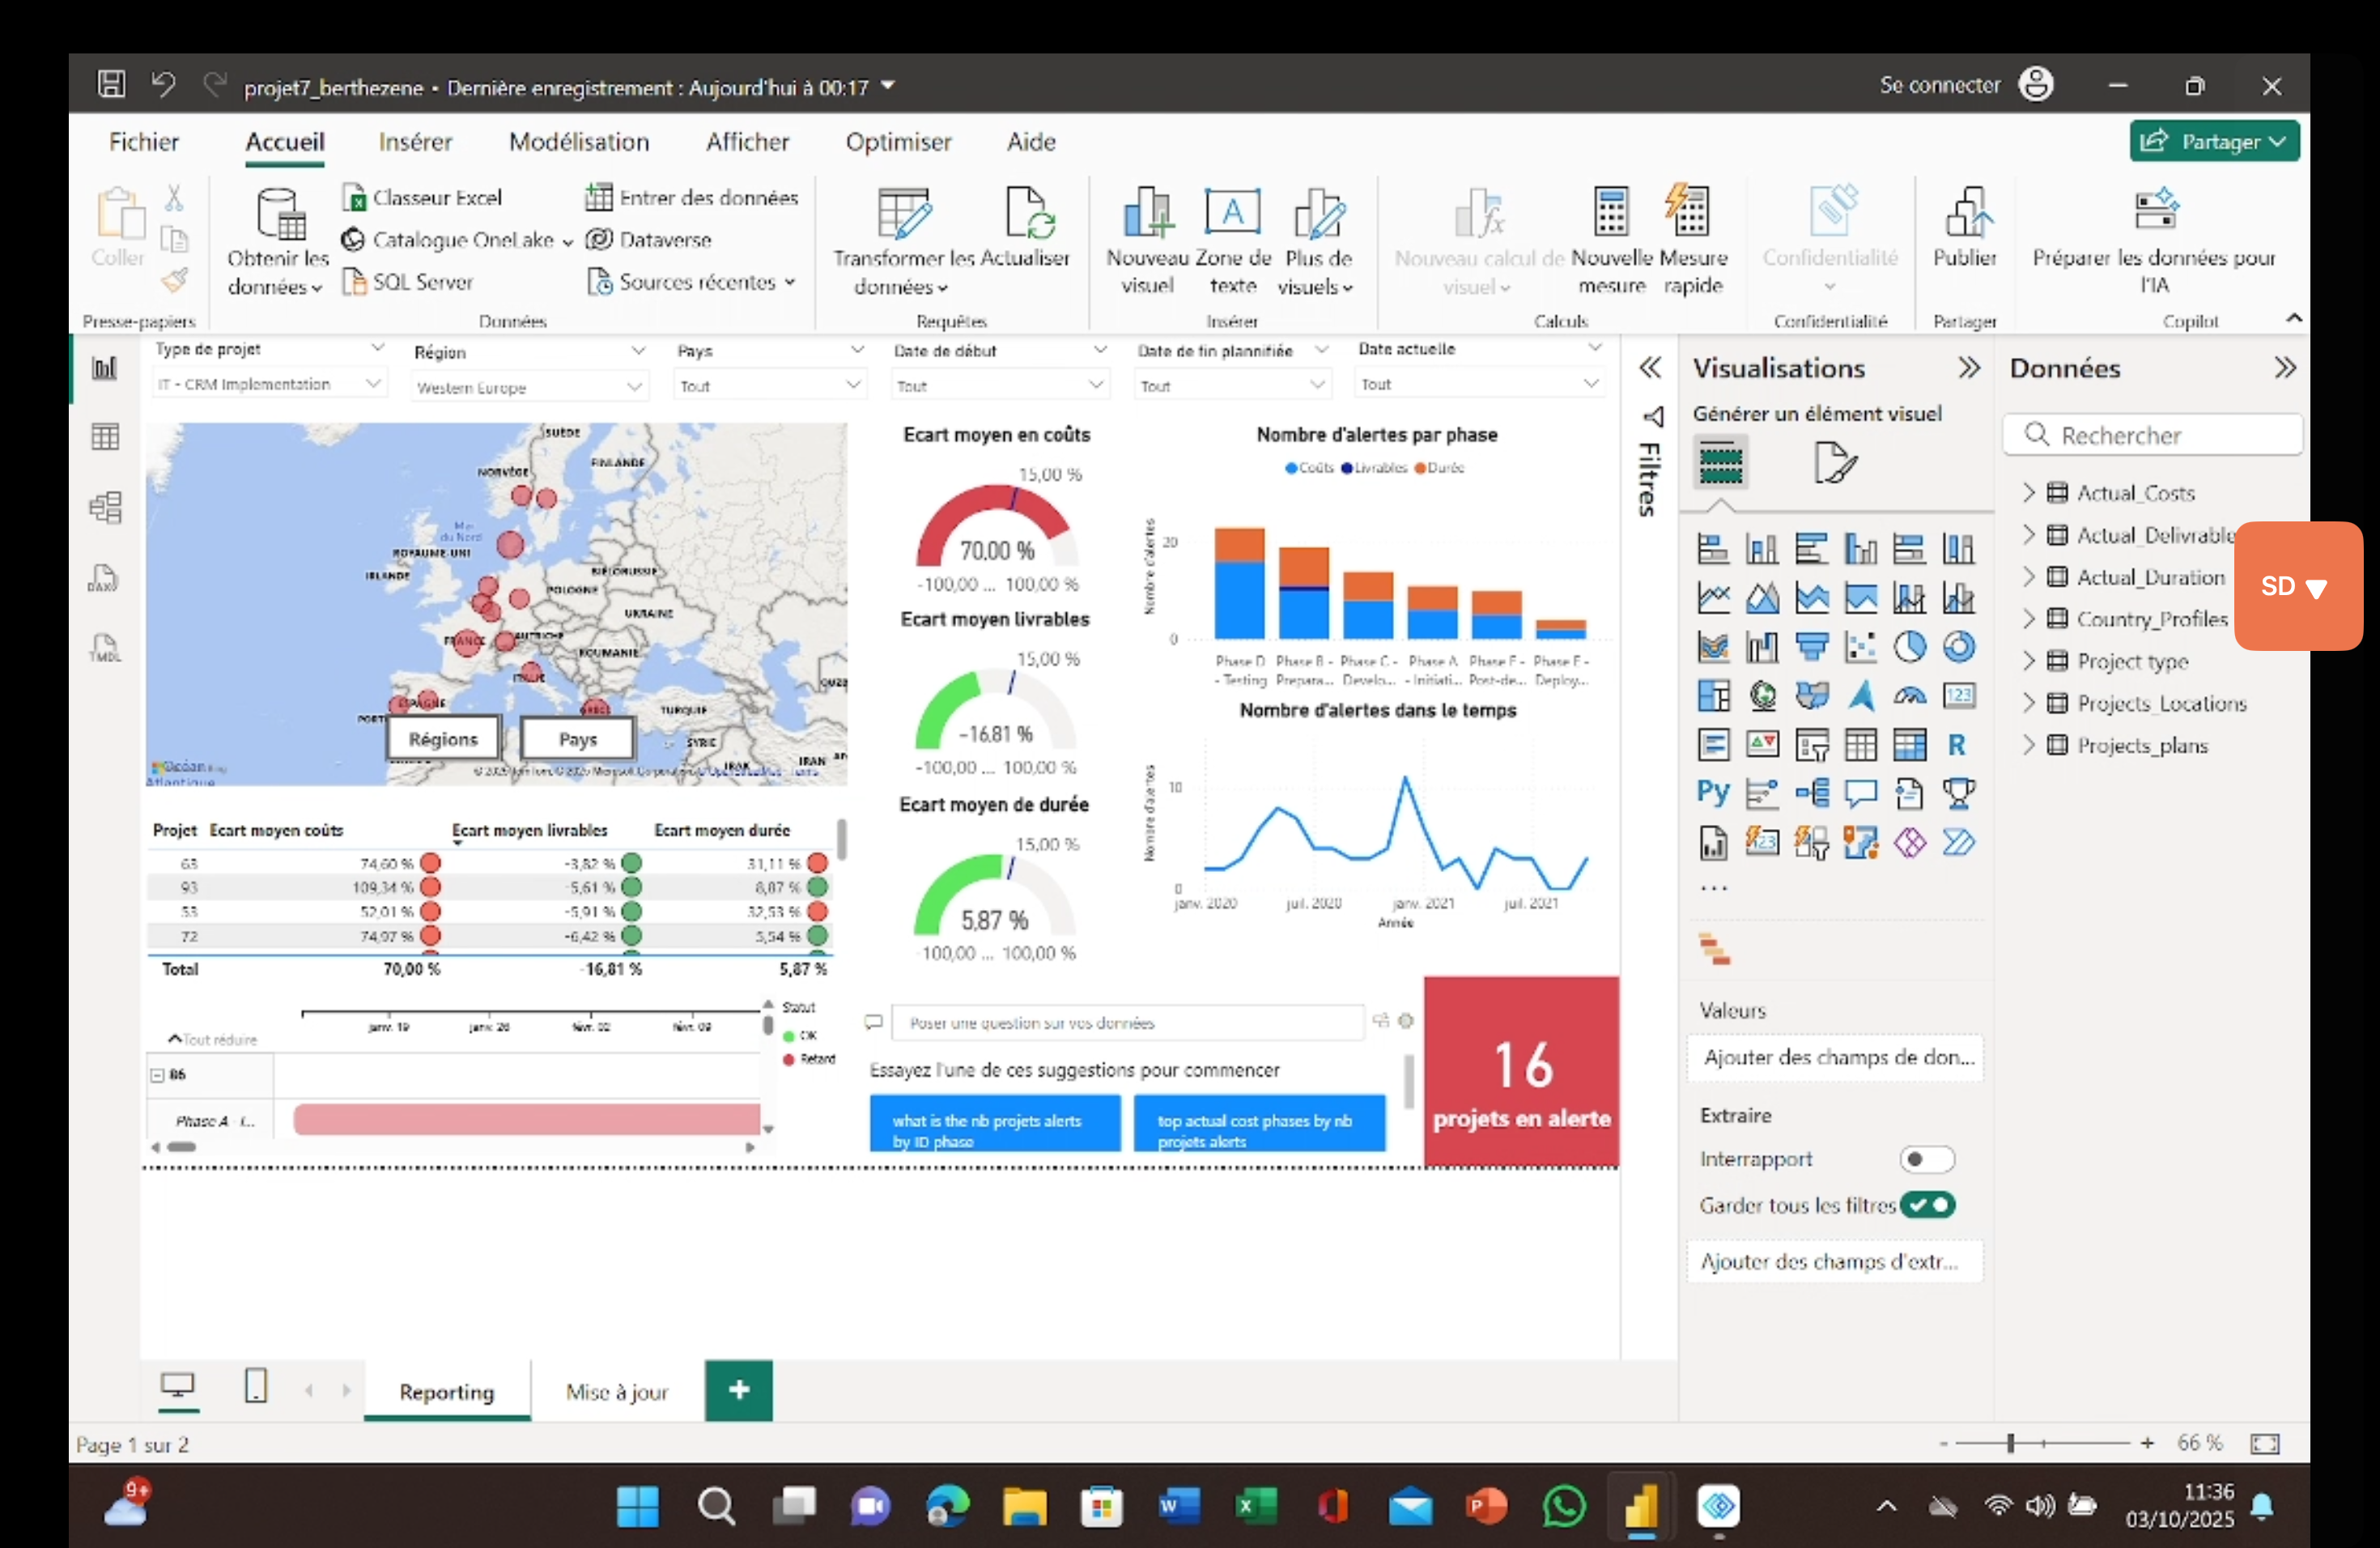

Layout of this report page (visuals, bound fields, positions):
{"tool":"powerbi","page":{"name":"Reporting","canvas":[1280,720],"ordinal":0},"visuals":[{"type":"lineChart","title":"Nombre d''alertes dans le temps","fields":{"Category":["Projects_plans.Start Date.Variation.Hiérarchie de dates.Année","Projects_plans.Start Date.Variation.Hiérarchie de dates.Trimestre","Projects_plans.Start Date.Variation.Hiérarchie de dates.Mois"],"Y":["Sum(Projects_plans.Total_alerts)"]},"box":[861.7,315.6,417.6,204.1],"z":0},{"type":"gauge","fields":{"Y":["Avg(Projects_plans.Gap_Costs)"]},"box":[617.4,77.4,246.3,159.5],"z":1000},{"type":"gauge","fields":{"Y":["Avg(Projects_plans.Gap_Delivrables)"]},"box":[615.8,236.8,246.3,159],"z":2000},{"type":"gauge","fields":{"Y":["Avg(Projects_plans.Gap_Duration)"]},"box":[615.8,396.3,244.7,159],"z":3000},{"type":"columnChart","title":"Nombre d''alertes par phase","fields":{"Category":["Projects_plans.Phase"],"Y":["Sum(Projects_plans.Alert_Costs)","Sum(Projects_plans.Alert_Delivrables)","Sum(Projects_plans.Alert_Durations)"]},"box":[861.7,71.8,415.8,243.8],"z":4000},{"type":"map","fields":{"Category":["Country_Profiles.Region","Country_Profiles.Country"],"Size":["CountNonNull(Projects_plans.Project ID)"]},"box":[0,71.2,616.3,324],"z":5000},{"type":"qnaVisual","box":[617.8,554.2,492.1,162],"z":6000},{"type":"card","fields":{"Values":["Projects_plans.Nb_projets_alerts"]},"box":[1110,555.8,168.9,164.2],"z":7000},{"type":"slicer","fields":{"Values":["Project type.Project Type"]},"box":[0,0,224.2,63.2],"z":8000},{"type":"slicer","fields":{"Values":["Country_Profiles.Region"]},"box":[224.2,3.2,225.8,64.7],"z":9000},{"type":"slicer","fields":{"Values":["Country_Profiles.Country"]},"box":[451.6,1.6,187.9,67.9],"z":10000},{"type":"slicer","fields":{"Values":["Projects_plans.Start Date.Variation.Hiérarchie de dates.Année","Projects_plans.Start Date.Variation.Hiérarchie de dates.Trimestre","Projects_plans.Start Date.Variation.Hiérarchie de dates.Mois"]},"box":[639.5,1.6,210,64.7],"z":11000},{"type":"slicer","fields":{"Values":["Projects_plans.End_Actual_Date.Variation.Hiérarchie de dates.Année","Projects_plans.End_Actual_Date.Variation.Hiérarchie de dates.Trimestre","Projects_plans.End_Actual_Date.Variation.Hiérarchie de dates.Mois"]},"box":[1040.5,0,236.8,66.3],"z":12000},{"type":"Gantt1448688115699","fields":{"Task":["Projects_plans.Phase"],"Parent":["Projects_plans.Project ID"],"ExtraInformation":["Projects_plans.Gap_Duration","Projects_plans.Duration_Delay"],"Legend":["Projects_plans.Duration_Dela_Status"],"EndDate":["Max(Projects_plans.Date_fin)"],"StartDate":["Projects_plans.Start Date"]},"box":[0,566.9,616.1,149.3],"z":13000},{"type":"slicer","fields":{"Values":["Projects_plans.End_Planned_Date.Variation.Hiérarchie de dates.Année","Projects_plans.End_Planned_Date.Variation.Hiérarchie de dates.Trimestre","Projects_plans.End_Planned_Date.Variation.Hiérarchie de dates.Mois"]},"box":[849.5,1.6,191.1,75.8],"z":14000},{"type":"actionButton","title":"Pays","box":[328.8,330.4,100.3,40.1],"z":15000},{"type":"actionButton","title":"Pays","box":[212.4,329.1,100.3,41.5],"z":16000},{"type":"tableEx","fields":{"Values":["Projects_plans.Project ID","Avg(Projects_plans.Gap_Costs)","Avg(Projects_plans.Gap_Delivrables)","Avg(Projects_plans.Gap_Duration)"]},"box":[0,413.4,616.3,149.9],"z":17000}]}

Visuals, with their boxes on the page's 1280x720 design canvas (x1, y1, x2, y2). These are canvas units, not pixel positions in the 2380x1548 screenshot, which may show the page scaled, cropped or inside an application window:
"Nombre d''alertes dans le temps" lineChart: bbox(862, 316, 1279, 520)
gauge - Avg(Projects_plans.Gap_Costs): bbox(617, 77, 864, 237)
gauge - Avg(Projects_plans.Gap_Delivrables): bbox(616, 237, 862, 396)
gauge - Avg(Projects_plans.Gap_Duration): bbox(616, 396, 860, 555)
"Nombre d''alertes par phase" columnChart: bbox(862, 72, 1278, 316)
map - Country_Profiles.Region x Country_Profiles.Country: bbox(0, 71, 616, 395)
qnaVisual: bbox(618, 554, 1110, 716)
card - Projects_plans.Nb_projets_alerts: bbox(1110, 556, 1279, 720)
slicer - Project type.Project Type: bbox(0, 0, 224, 63)
slicer - Country_Profiles.Region: bbox(224, 3, 450, 68)
slicer - Country_Profiles.Country: bbox(452, 2, 640, 70)
slicer - Projects_plans.Start Date.Variation.Hiérarchie de dates.Année x Projects_plans.Start Date.Variation.Hiérarchie de dates.Trimestre: bbox(640, 2, 850, 66)
slicer - Projects_plans.End_Actual_Date.Variation.Hiérarchie de dates.Année x Projects_plans.End_Actual_Date.Variation.Hiérarchie de dates.Trimestre: bbox(1040, 0, 1277, 66)
Gantt1448688115699 - Projects_plans.Phase x Projects_plans.Project ID: bbox(0, 567, 616, 716)
slicer - Projects_plans.End_Planned_Date.Variation.Hiérarchie de dates.Année x Projects_plans.End_Planned_Date.Variation.Hiérarchie de dates.Trimestre: bbox(850, 2, 1041, 77)
"Pays" actionButton: bbox(329, 330, 429, 370)
"Pays" actionButton: bbox(212, 329, 313, 371)
tableEx - Projects_plans.Project ID x Avg(Projects_plans.Gap_Costs): bbox(0, 413, 616, 563)
